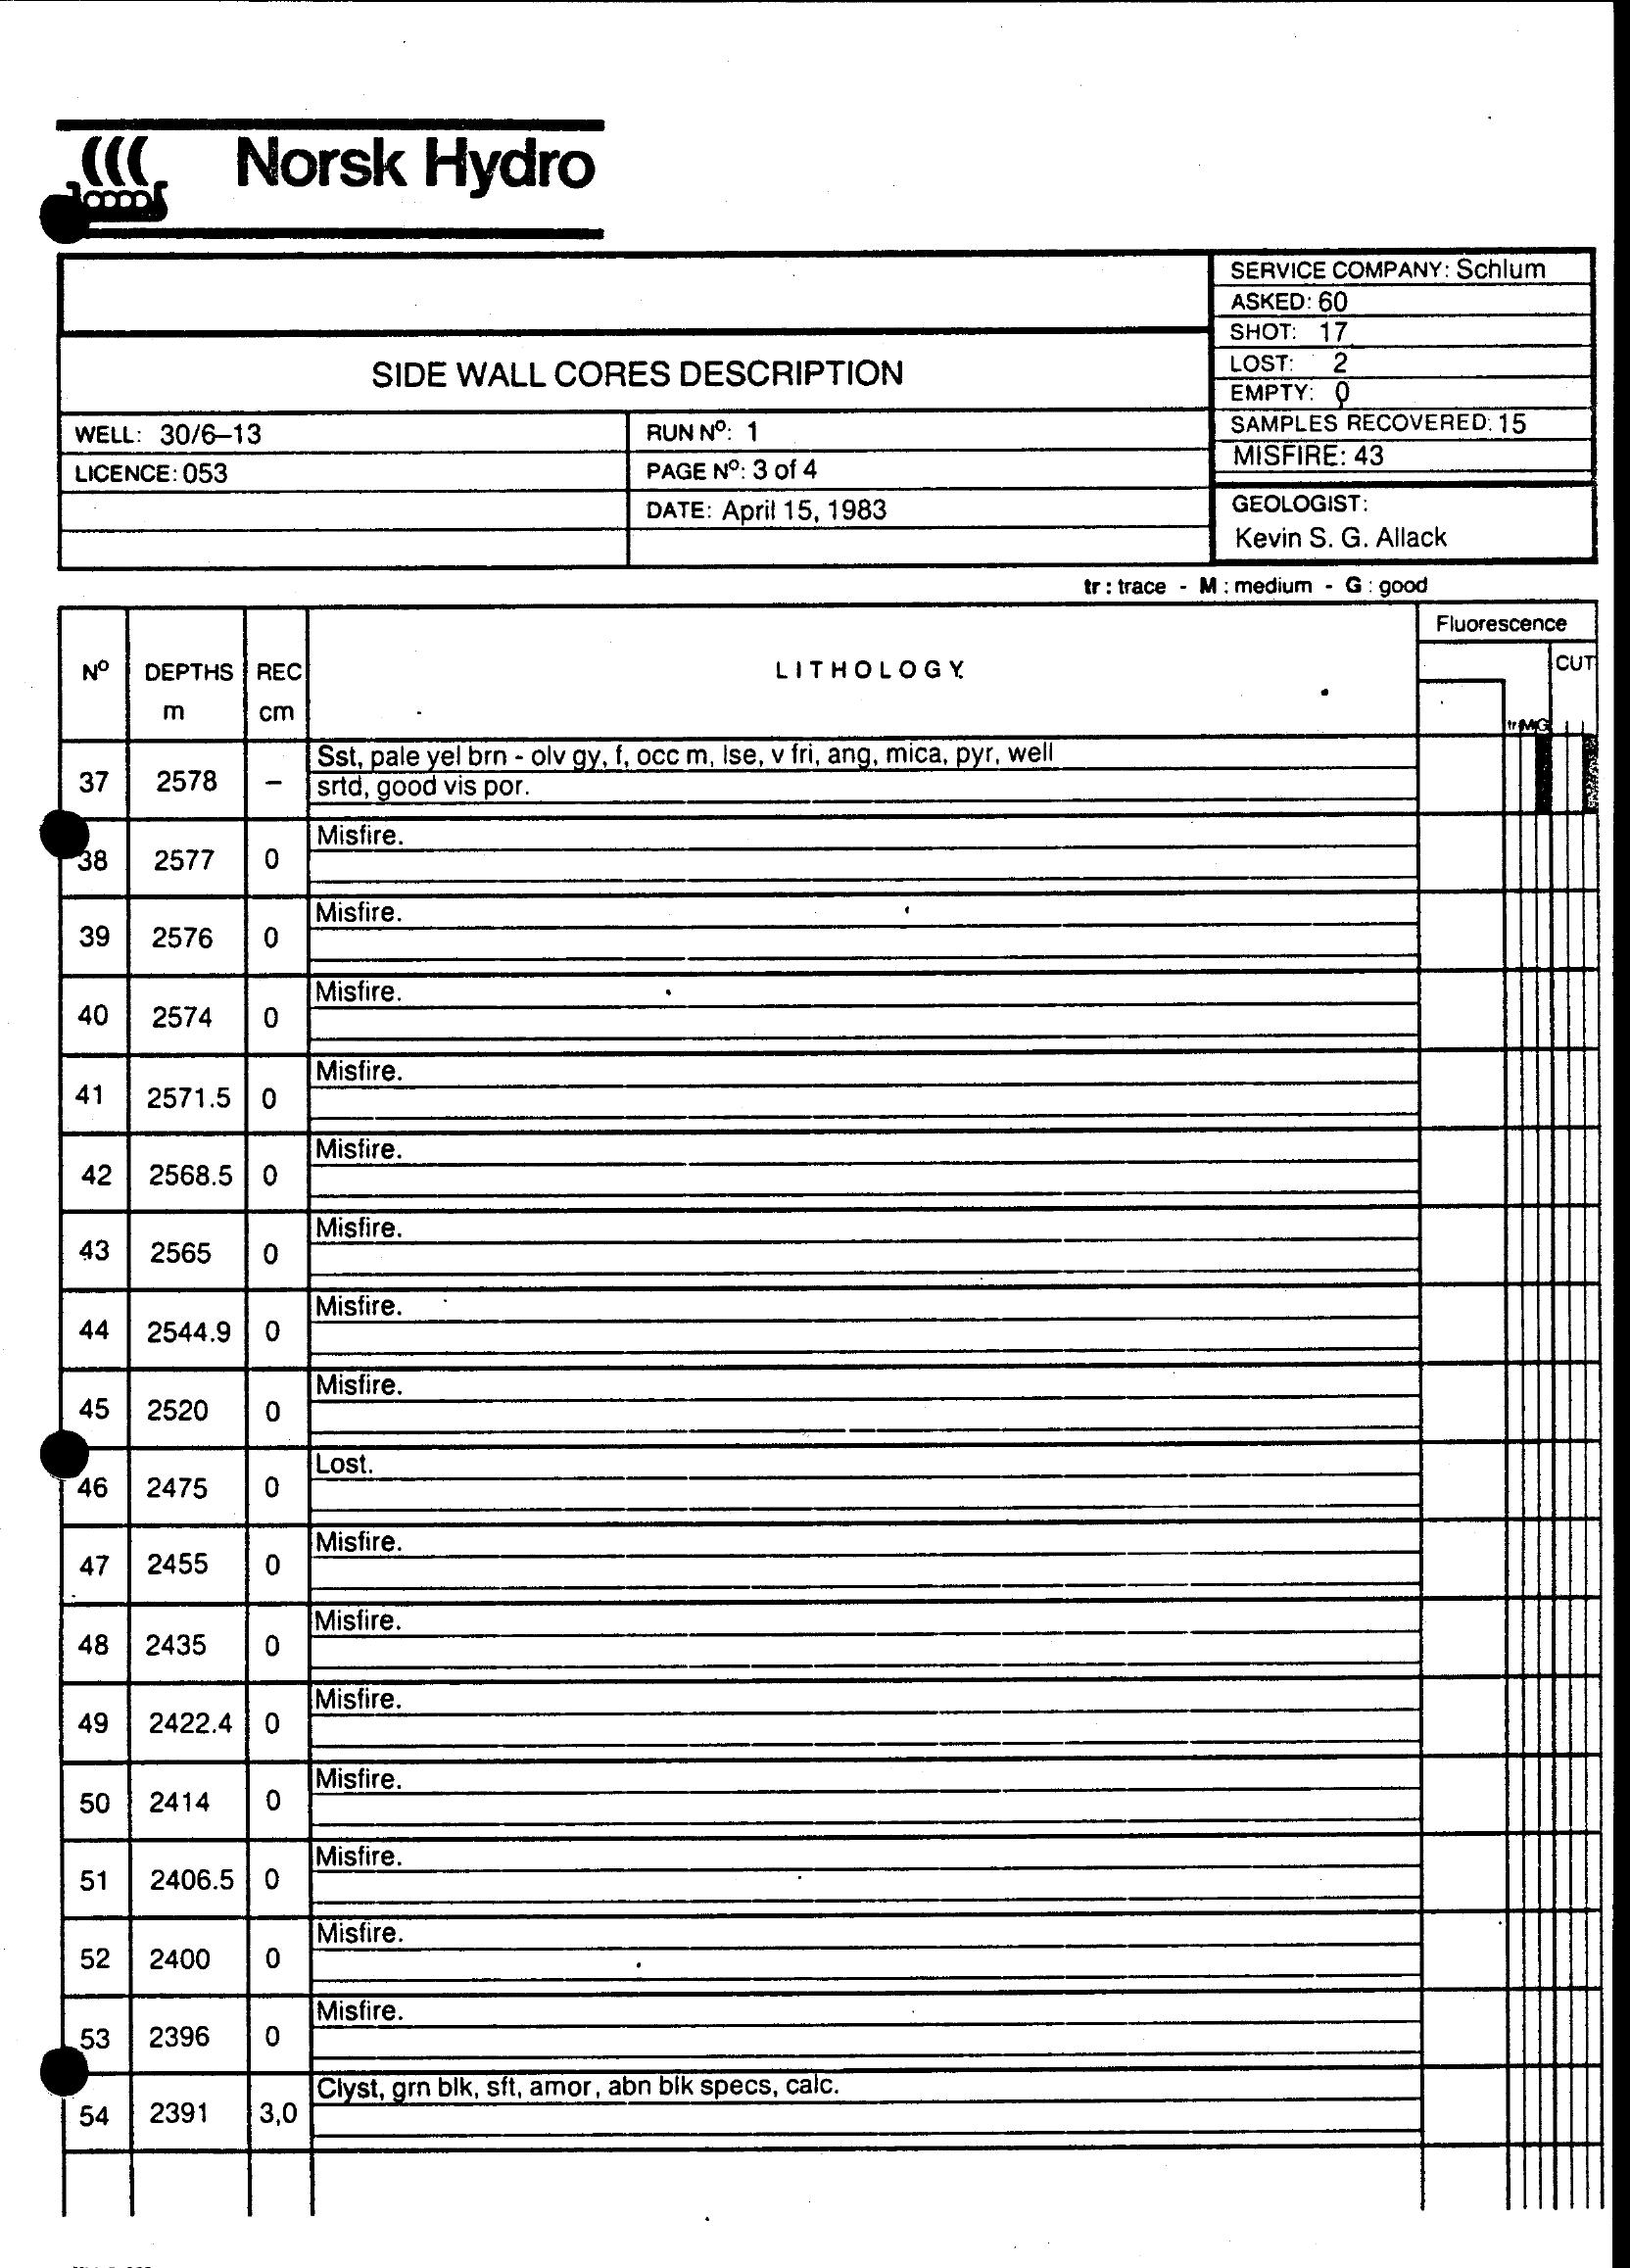table: (26, 585, 1626, 2243)
undefined: (21, 107, 632, 252)
